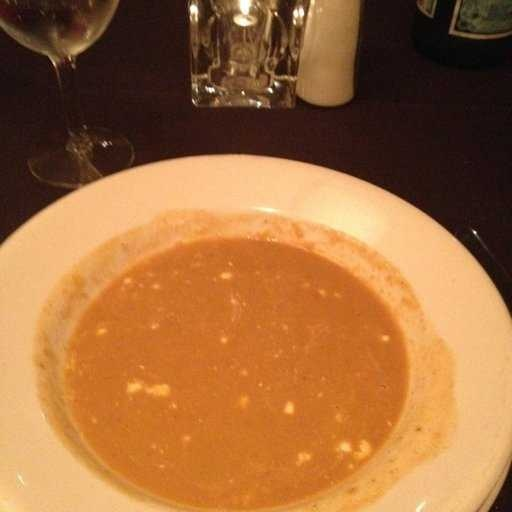soup: (28, 206, 435, 505)
